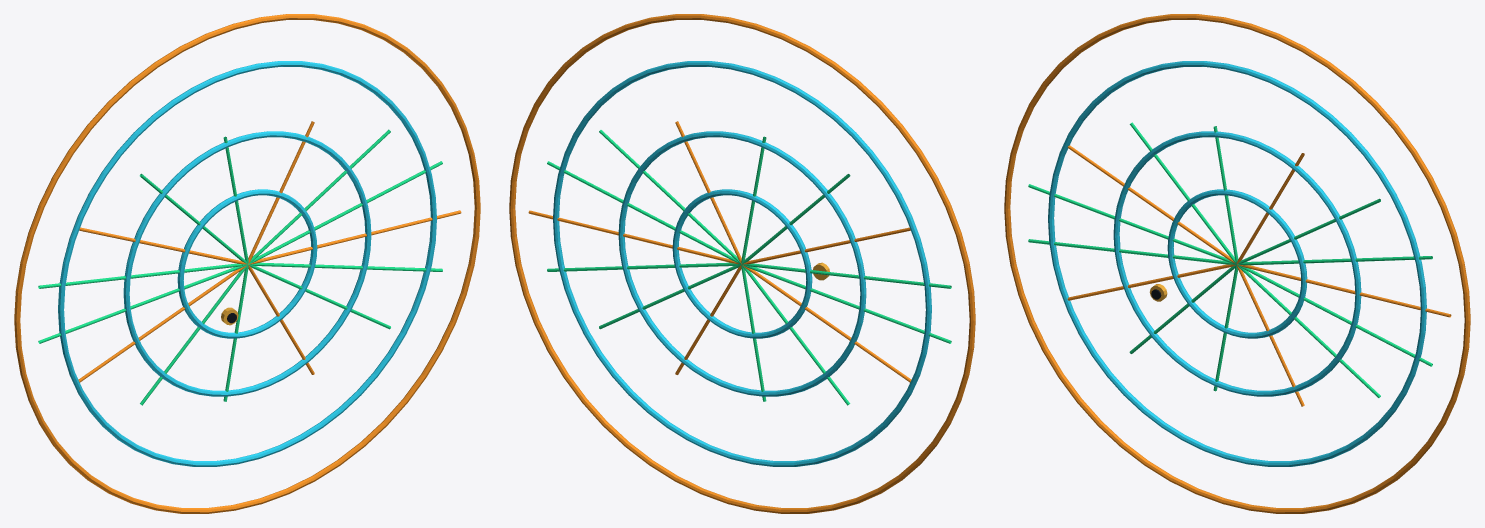
The model's file is 61_L86_StationThermalTrendHologram.fbx.
The picture shows the model from 3 angles, left to right: view 1: azimuth 30°, elevation 25°; view 2: azimuth 150°, elevation 25°; view 3: azimuth 330°, elevation 25°; orthographic projection.
Visible parts, largest first — view 1: L86_StationThermalTrendHologram_Part_0000, L86_StationThermalTrendHologram_Part_0001, L86_StationThermalTrendHologram_Part_0002; view 2: L86_StationThermalTrendHologram_Part_0000, L86_StationThermalTrendHologram_Part_0001, L86_StationThermalTrendHologram_Part_0002; view 3: L86_StationThermalTrendHologram_Part_0000, L86_StationThermalTrendHologram_Part_0001, L86_StationThermalTrendHologram_Part_0002.
Part boxes in pixels (x1=…): L86_StationThermalTrendHologram_Part_0000: x1=58, y1=61, x2=436, y2=466; L86_StationThermalTrendHologram_Part_0001: x1=14, y1=14, x2=480, y2=513; L86_StationThermalTrendHologram_Part_0002: x1=38, y1=129, x2=442, y2=405; L86_StationThermalTrendHologram_Part_0000: x1=553, y1=61, x2=931, y2=466; L86_StationThermalTrendHologram_Part_0001: x1=509, y1=14, x2=975, y2=513; L86_StationThermalTrendHologram_Part_0002: x1=547, y1=130, x2=951, y2=405; L86_StationThermalTrendHologram_Part_0000: x1=1048, y1=61, x2=1426, y2=466; L86_StationThermalTrendHologram_Part_0001: x1=1004, y1=14, x2=1470, y2=513; L86_StationThermalTrendHologram_Part_0002: x1=1028, y1=122, x2=1432, y2=397.
Bounding box in the file's own units: 405 × 404 × 52.6.
